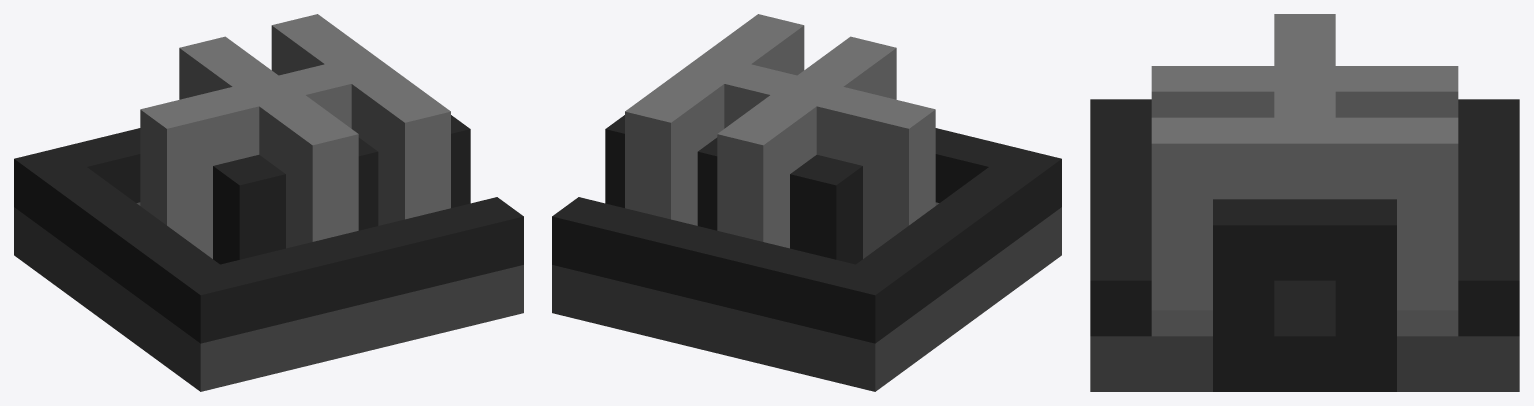
Rendered from WeaponTargetting#1.obj.
3 renders of one model, left to right at view 1: azimuth 30°, elevation 25°; view 2: azimuth 150°, elevation 25°; view 3: azimuth 270°, elevation 25°, orthographic. The views are drawn at different scales.
Bounding box in the file's own units: 0.7 × 0.5 × 0.7.
Materials: 1 (1 with a texture image).
